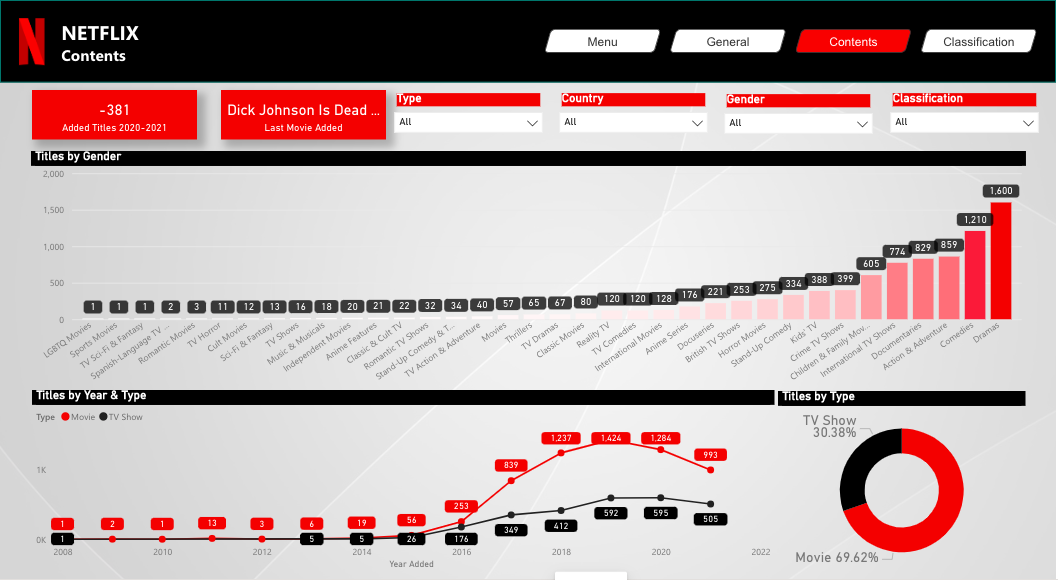

This screenshot's page, from the dashboard's own definition file:
{"tool":"powerbi","page":{"name":"Contents","canvas":[1280,720],"ordinal":2},"visuals":[{"type":"shape","box":[0,18.3,1280,100],"z":0},{"type":"donutChart","title":"Titles by Type","fields":{"Category":["Type2.type"],"Y":["Show1.Available Shows"]},"box":[943.4,491.5,300.1,228.5],"z":1000},{"type":"columnChart","title":"Titles by Gender","fields":{"Category":["Listed_in5.1stlisted_in"],"Y":["Show1.Available Shows"]},"box":[37.9,201.5,1205.6,290],"z":2000},{"type":"lineChart","title":"Titles by Year & Type","fields":{"Series":["Type2.type"],"Category":["Show1.year_added"],"Y":["Show1.Available Shows"]},"box":[38.3,491.2,899.8,221],"z":4000},{"type":"pageNavigator","box":[659.1,53.5,600,29.6],"z":5000},{"type":"image","box":[0,34.7,76.1,67.2],"z":6000},{"type":"card","fields":{"Values":["Medidas.LAST MOVIE ADDED"]},"box":[268.2,126.7,200.4,59.9],"z":7000},{"type":"card","fields":{"Values":["Medidas.TÍTULOS AGREGADOS 2020-2021"]},"box":[38.3,126.7,200.4,59.9],"z":8000},{"type":"slicer","fields":{"Values":["Type2.type"]},"box":[467.8,126.3,200.4,60.3],"z":9000},{"type":"slicer","fields":{"Values":["Country3.Country"]},"box":[668.2,126.3,200.4,60.3],"z":10000},{"type":"slicer","fields":{"Values":["Rate4.ID_Rate"]},"box":[1068.8,126.5,200.4,59.9],"z":11000},{"type":"slicer","fields":{"Values":["Listed_in5.1stlisted_in"]},"box":[868.5,126.8,200.4,59.3],"z":12000},{"type":"textbox","box":[69.1,34.6,263.9,67.4],"z":13000}]}

Visuals, with their boxes in screenshot pixels (x1, y1, x2, y2), scaled from the page's 1280x720 canvas onto the 1058x580 screenshot:
shape: Rect(0, 15, 1057, 95)
"Titles by Type" donutChart: Rect(780, 396, 1028, 579)
"Titles by Gender" columnChart: Rect(31, 162, 1028, 396)
"Titles by Year & Type" lineChart: Rect(32, 396, 775, 574)
pageNavigator: Rect(545, 43, 1041, 67)
image: Rect(0, 28, 63, 82)
card - Medidas.LAST MOVIE ADDED: Rect(222, 102, 387, 150)
card - Medidas.TÍTULOS AGREGADOS 2020-2021: Rect(32, 102, 197, 150)
slicer - Type2.type: Rect(387, 102, 552, 150)
slicer - Country3.Country: Rect(552, 102, 718, 150)
slicer - Rate4.ID_Rate: Rect(883, 102, 1049, 150)
slicer - Listed_in5.1stlisted_in: Rect(718, 102, 884, 150)
textbox: Rect(57, 28, 275, 82)
